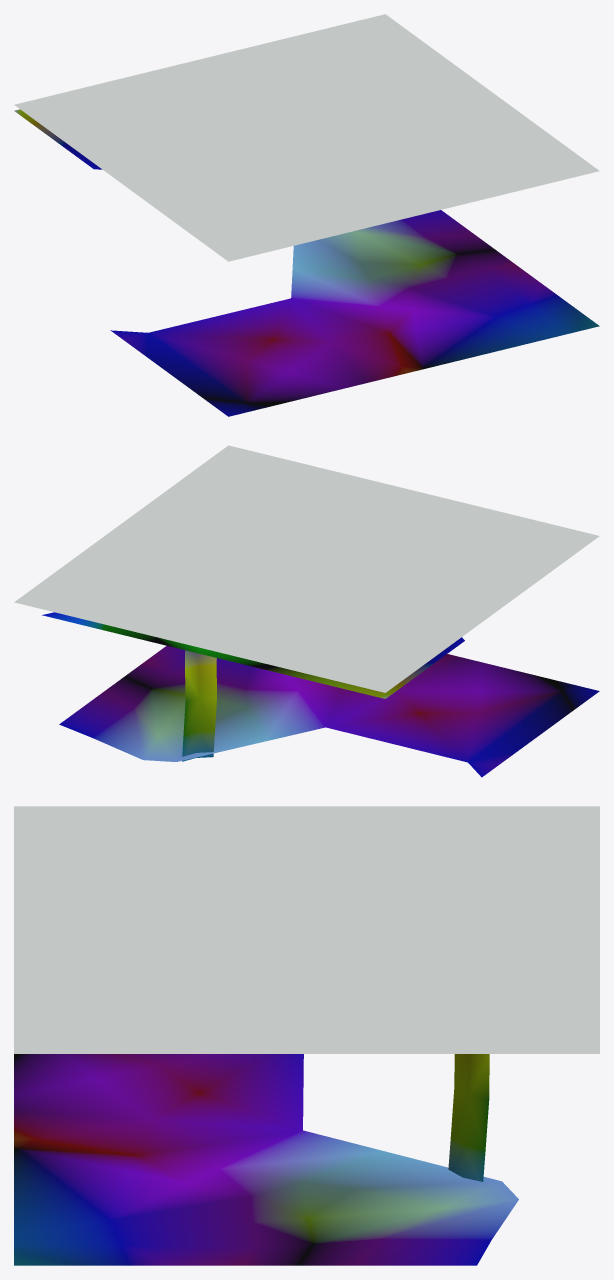
3 renders of one model, top to bottom at view 1: azimuth 30°, elevation 25°; view 2: azimuth 150°, elevation 25°; view 3: azimuth 270°, elevation 25°, orthographic. The views are drawn at different scales.
Parts seen in each view (by area): view 1: G:\FFXIV-MapTools\exports\w1f5\bg\ffxiv\wil_w1\fld\w1f5\bgpl (×2); view 2: G:\FFXIV-MapTools\exports\w1f5\bg\ffxiv\wil_w1\fld\w1f5\bgpl (×2); view 3: G:\FFXIV-MapTools\exports\w1f5\bg\ffxiv\wil_w1\fld\w1f5\bgpl (×2).
Boxes of the visible parts, x1,y1,x2,y2 form: G:\FFXIV-MapTools\exports\w1f5\bg\ffxiv\wil_w1\fld\w1f5\bgpl (×2): [14, 14, 599, 416]; G:\FFXIV-MapTools\exports\w1f5\bg\ffxiv\wil_w1\fld\w1f5\bgpl (×2): [14, 445, 599, 777]; G:\FFXIV-MapTools\exports\w1f5\bg\ffxiv\wil_w1\fld\w1f5\bgpl (×2): [14, 806, 599, 1265].
Bounding box in the file's own units: 128 × 52.81 × 128.
